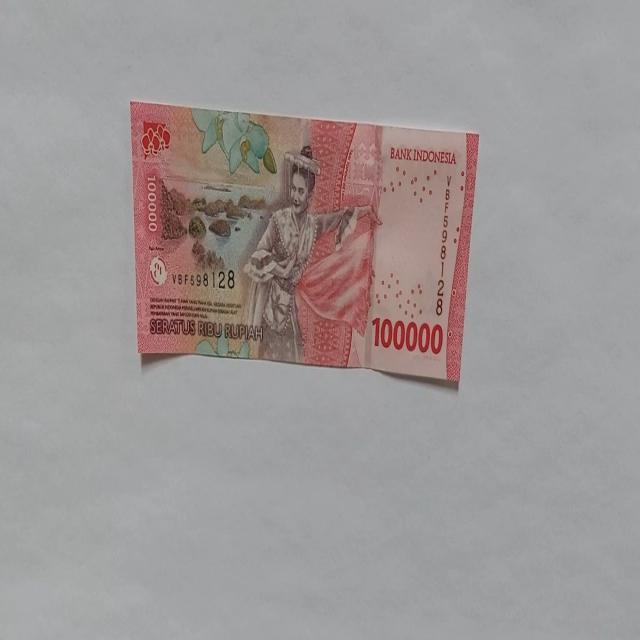seratus ribu rupiah: (130, 102, 480, 390), (241, 144, 361, 364)
